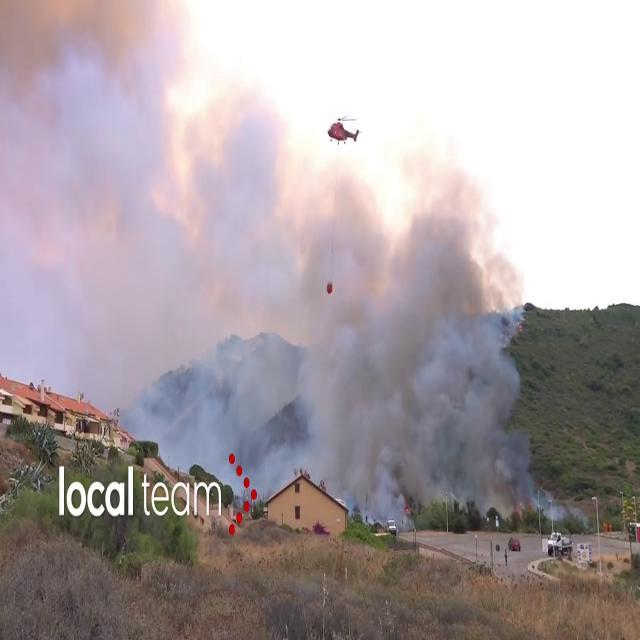Smoke: (2, 40, 546, 508)
